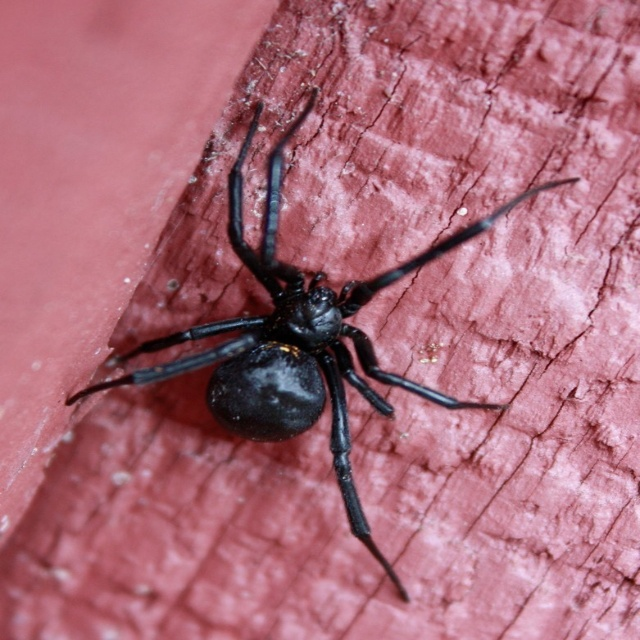Spider: (65, 86, 580, 603)
